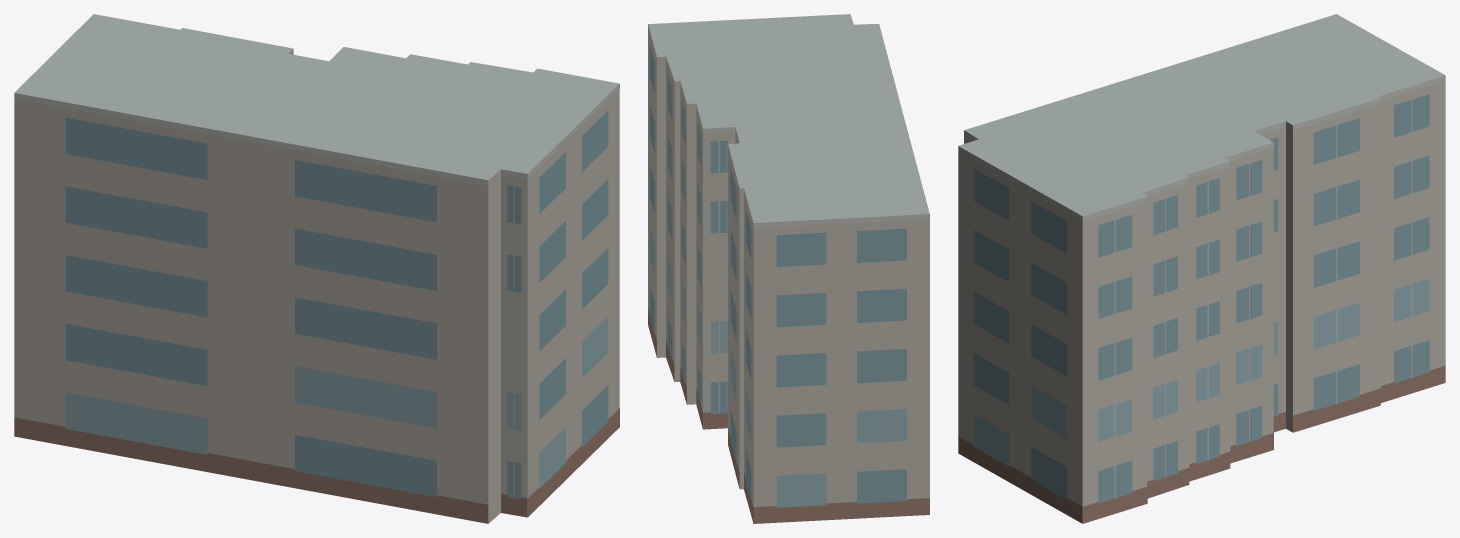
The model's file is survey-upis-32657137.glb.
3 renders of one model, left to right at view 1: azimuth 30°, elevation 25°; view 2: azimuth 150°, elevation 25°; view 3: azimuth 270°, elevation 25°, orthographic. The views are drawn at different scales.
Parts seen in each view (by area): view 1: survey-upis-32657137.tmp; view 2: survey-upis-32657137.tmp; view 3: survey-upis-32657137.tmp.
Boxes of the visible parts, bbox=[...] form: survey-upis-32657137.tmp: bbox=[14, 14, 619, 523]; survey-upis-32657137.tmp: bbox=[648, 14, 929, 523]; survey-upis-32657137.tmp: bbox=[958, 14, 1445, 523].
Size of the model in its own units: 21.61 by 15.3 by 21.99.
